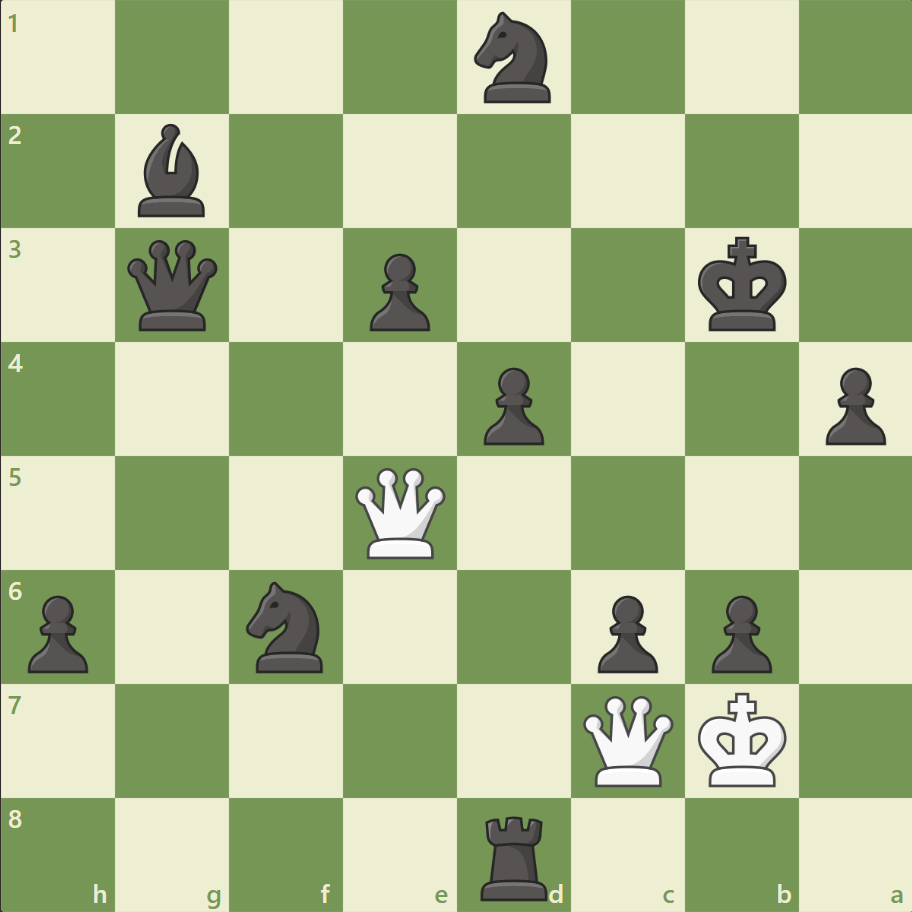K: (692, 685, 792, 793)
Q: (578, 690, 677, 789), (351, 463, 450, 562)
b: (131, 120, 215, 222)
k: (692, 231, 792, 339)
n: (465, 7, 562, 110), (238, 575, 335, 677)
p: (701, 586, 776, 677), (20, 586, 95, 677), (474, 359, 549, 450), (588, 586, 662, 677), (815, 359, 889, 450), (361, 246, 435, 337)
q: (124, 236, 223, 335)
r: (473, 806, 556, 904)
